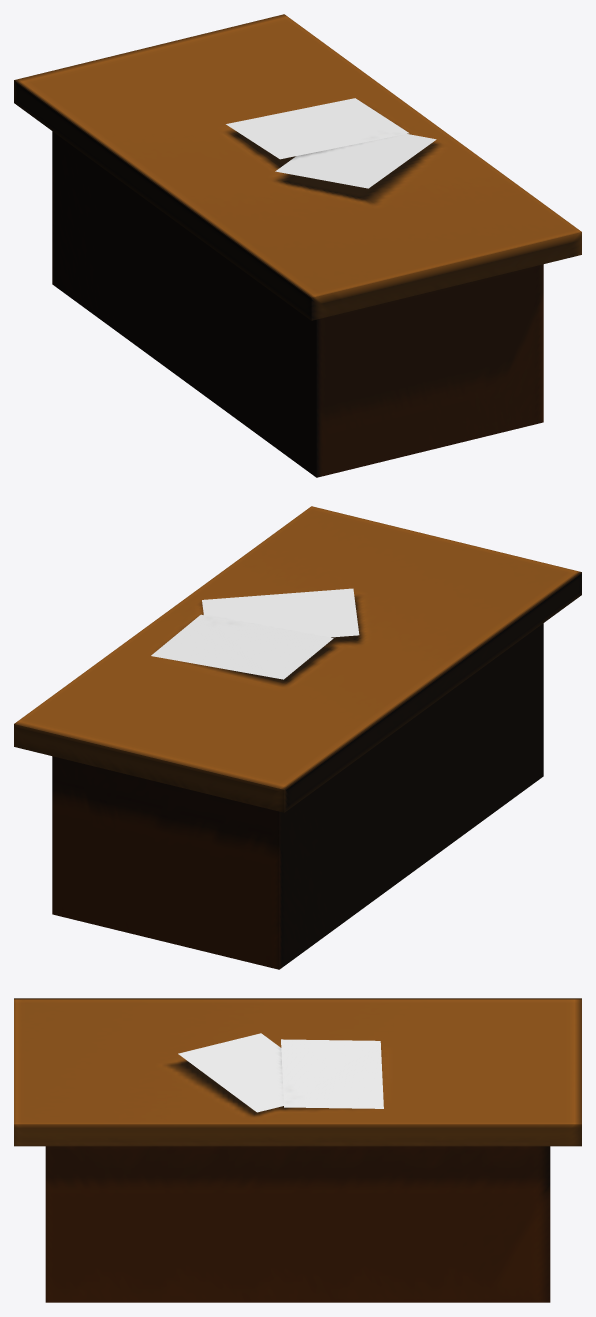
The model's file is Tx_Props_Table_Professional.fbx.
The picture shows the model from 3 angles, top to bottom: view 1: azimuth 30°, elevation 25°; view 2: azimuth 150°, elevation 25°; view 3: azimuth 270°, elevation 25°; orthographic projection. The views are drawn at different scales.
Visible parts, largest first — view 1: Tx_Props_Table_Professional; view 2: Tx_Props_Table_Professional; view 3: Tx_Props_Table_Professional.
Part boxes in pixels (box(x1,y1,x2,y2)): Tx_Props_Table_Professional: box(14, 14, 581, 477); Tx_Props_Table_Professional: box(14, 506, 581, 969); Tx_Props_Table_Professional: box(14, 998, 581, 1302).
Bounding box in the file's own units: 5.41 × 4 × 10.31.
